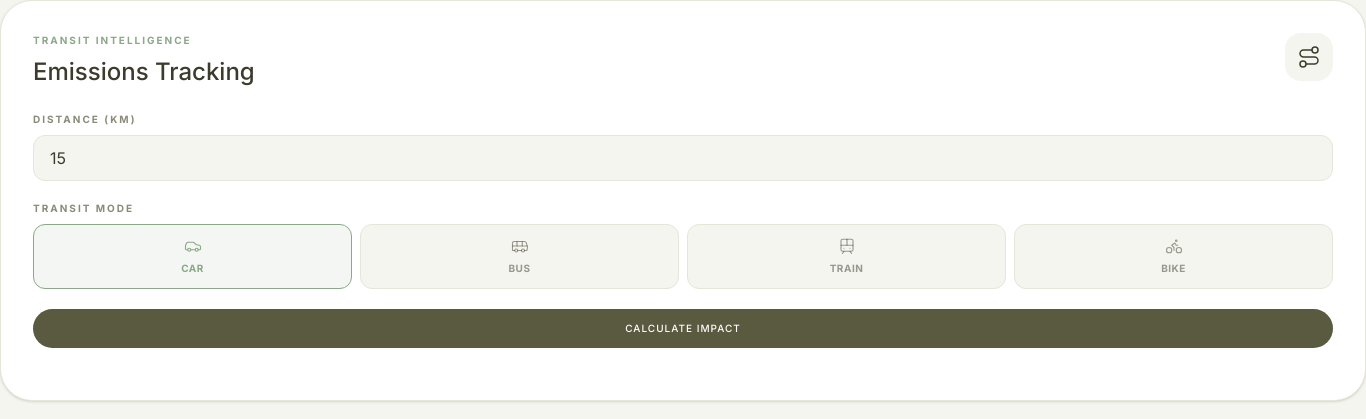
Scenario: TransitFootprint › disables calculation when distance is empty
The image size is (1366, 419).
Clear the number field: (683, 158) top-left (33, 135), bottom-right (1333, 181)
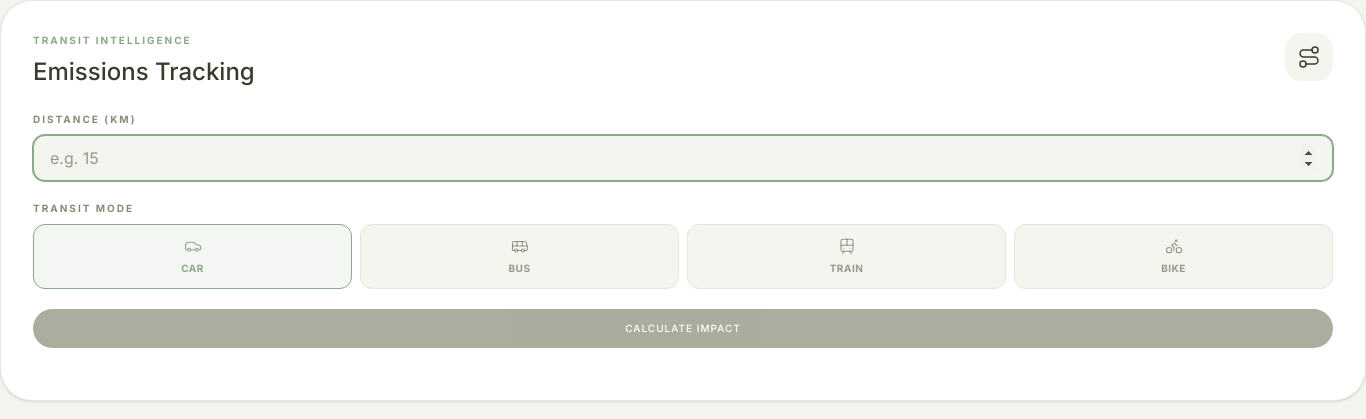
Result: the button "Calculate Impact" is disabled at top-left (33, 309), bottom-right (1333, 348)
